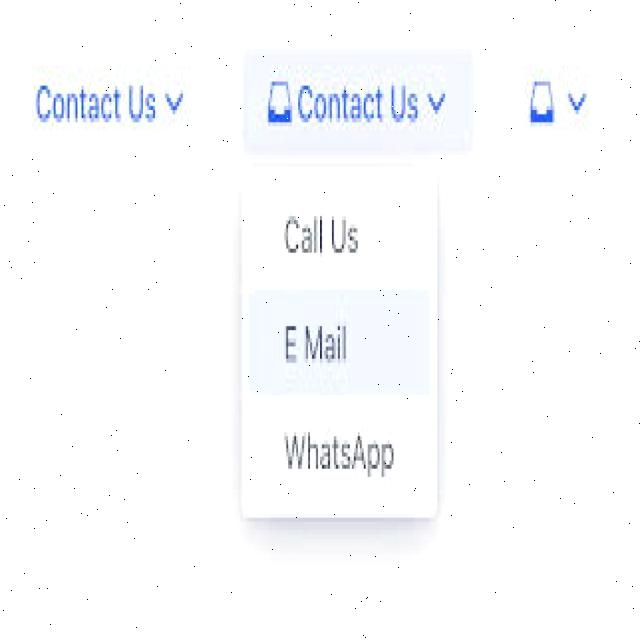dropdownMenu: (245, 49, 475, 153), (18, 62, 208, 149), (505, 49, 606, 143)
menuItem: (246, 290, 433, 394), (275, 420, 403, 485), (276, 200, 379, 264)
